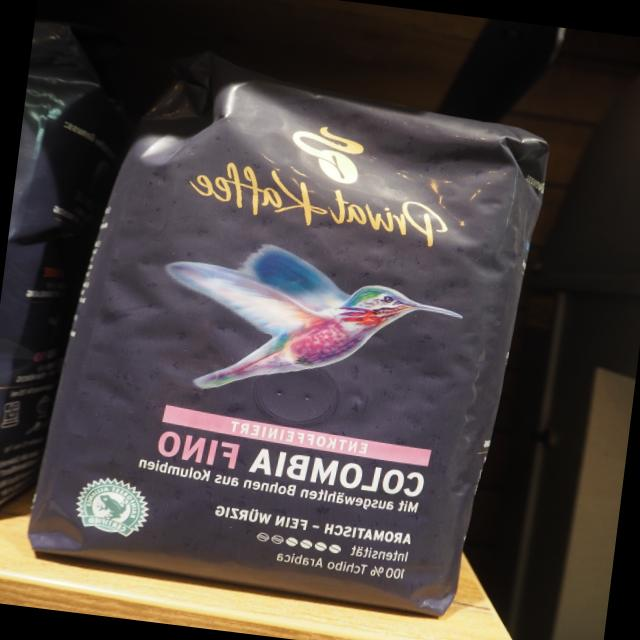C Fino Bohne: (16, 48, 562, 628)
